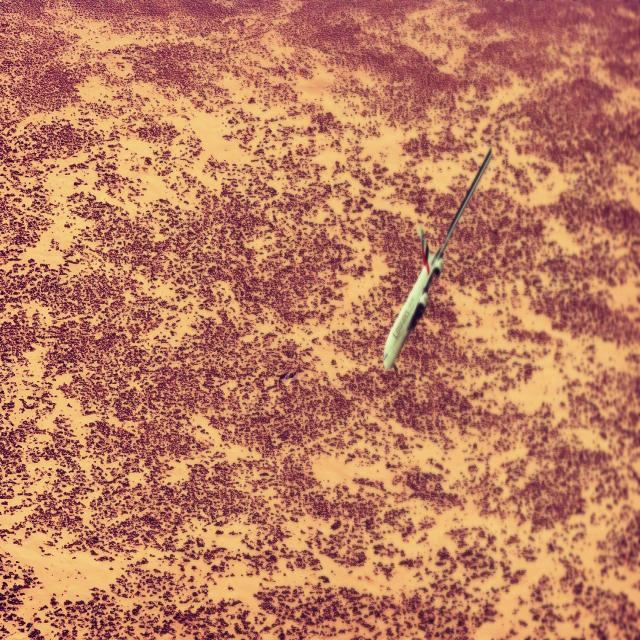airplane: (382, 146, 492, 371)
